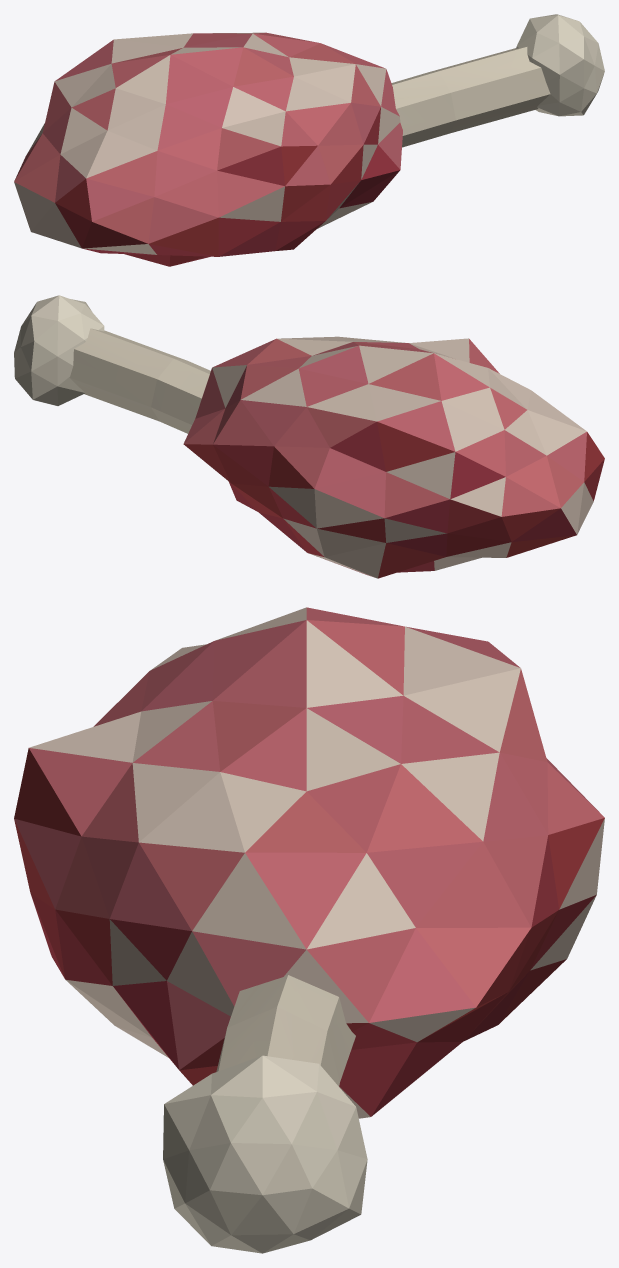
File: meat.glb
3 views of the same model, one above another, from view 1: azimuth 30°, elevation 25°; view 2: azimuth 150°, elevation 25°; view 3: azimuth 270°, elevation 25° (orthographic). The views are drawn at different scales.
Parts seen in each view (by area): view 1: meat_solid; view 2: meat_solid; view 3: meat_solid.
Boxes of the visible parts, x1,y1,x2,y2 form: meat_solid: [14, 14, 604, 266]; meat_solid: [14, 295, 604, 578]; meat_solid: [14, 607, 604, 1253].
Bounding box in the file's own units: 0.4187 × 0.1528 × 0.2016.
